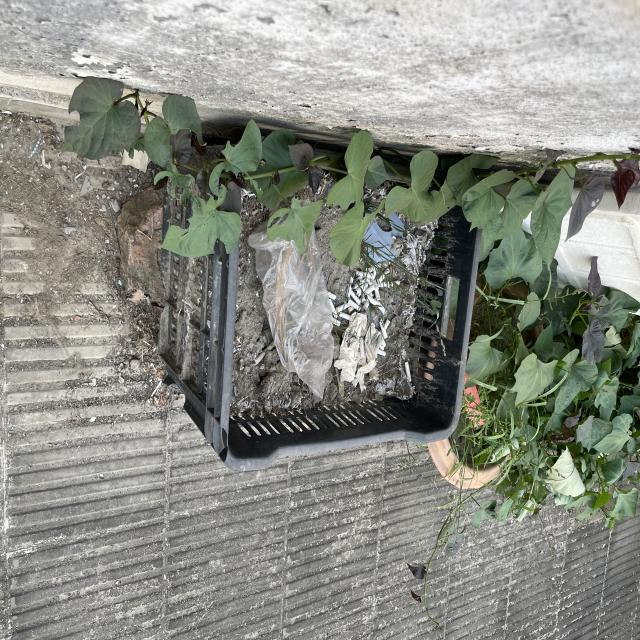Breeding Place: (185, 139, 470, 443), (423, 328, 547, 492)
